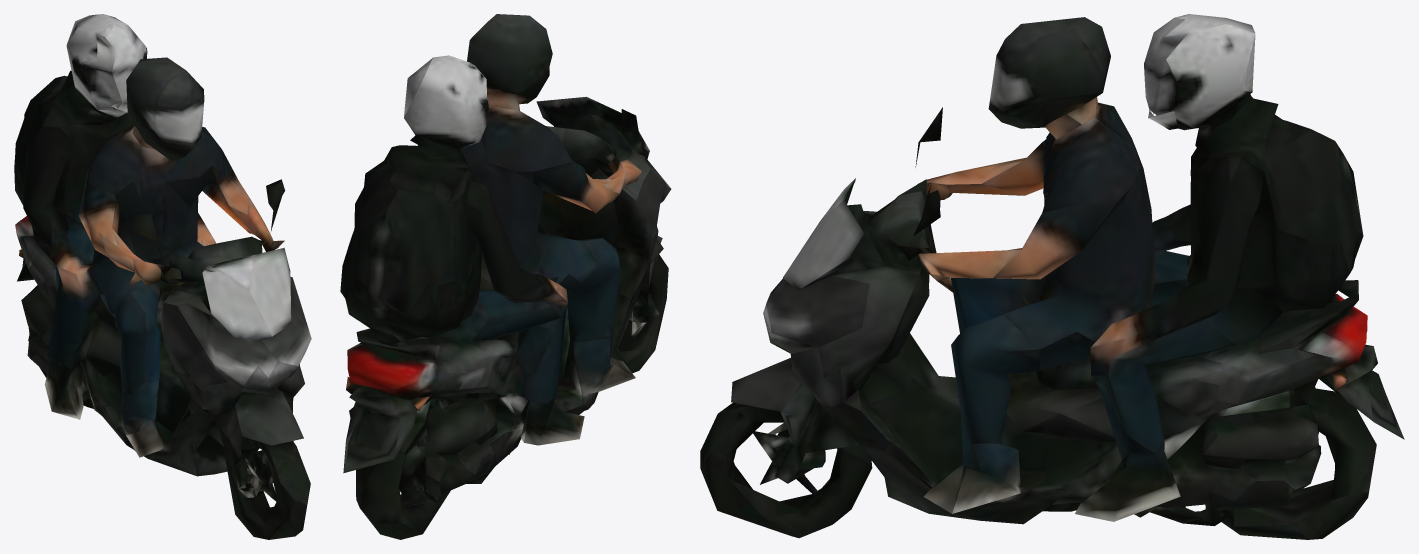
File: nmax_lod2.glb
3 renders of one model, left to right at view 1: azimuth 30°, elevation 25°; view 2: azimuth 150°, elevation 25°; view 3: azimuth 270°, elevation 25°, orthographic. The views are drawn at different scales.
Parts seen in each view (by area): view 1: tripo_node_f61885a6; view 2: tripo_node_f61885a6; view 3: tripo_node_f61885a6.
Boxes of the visible parts, <box> form: tripo_node_f61885a6: <box>14,14,311,539</box>; tripo_node_f61885a6: <box>340,14,671,539</box>; tripo_node_f61885a6: <box>700,14,1404,539</box>.
Size of the model in its own units: 37.57 by 81.42 by 99.47.
1 material, 1 textured.
